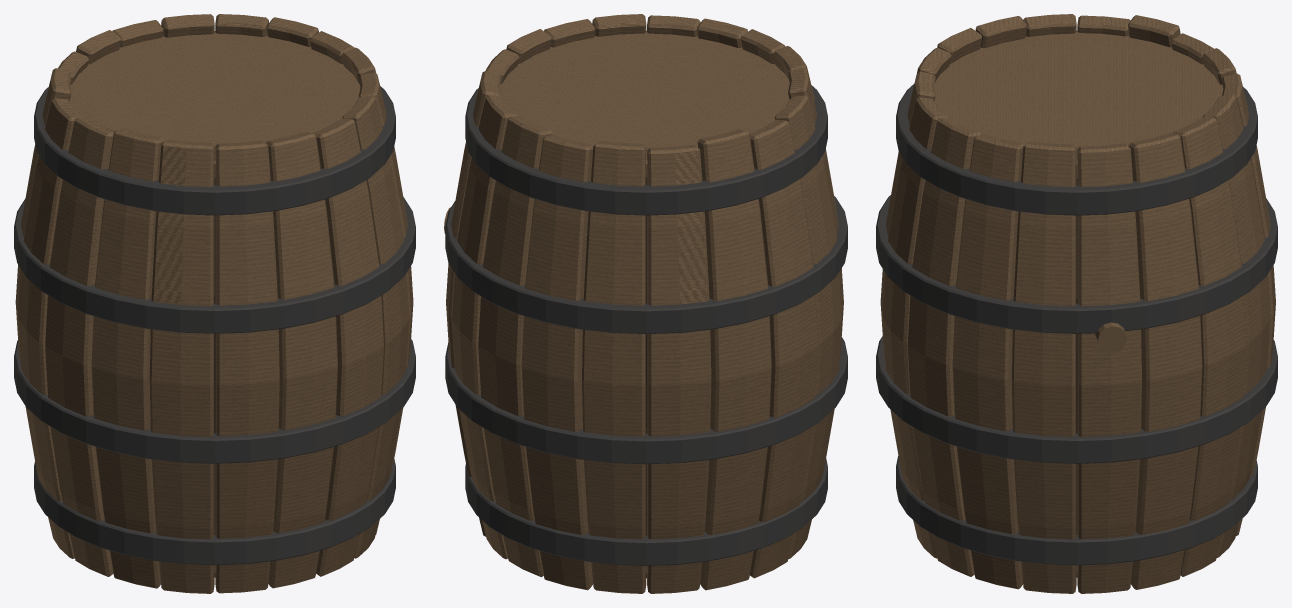
Rendered from prop-barrel.glb.
3 views of the same model, side by side, from view 1: azimuth 30°, elevation 25°; view 2: azimuth 150°, elevation 25°; view 3: azimuth 270°, elevation 25° (orthographic).
Parts seen in each view (by area): view 1: BarrelStaves, HeadTop, hoop.002, hoop.001, hoop.003, hoop, BarrelCore; view 2: BarrelStaves, HeadTop, hoop.002, hoop.001, hoop.003, hoop; view 3: BarrelStaves, HeadTop, hoop.002, hoop.001, hoop.003, hoop, Bung, BarrelCore.
Boxes of the visible parts, x1,y1,x2,y2 form: BarrelStaves: [15, 14, 413, 593]; HeadTop: [69, 31, 360, 177]; hoop.002: [14, 197, 415, 333]; hoop.001: [14, 339, 415, 463]; hoop.003: [34, 86, 395, 215]; hoop: [34, 459, 395, 565]; BarrelCore: [214, 178, 215, 577]; BarrelStaves: [446, 14, 843, 593]; HeadTop: [499, 30, 789, 178]; hoop.002: [445, 196, 847, 334]; hoop.001: [445, 337, 847, 464]; hoop.003: [465, 85, 827, 215]; hoop: [465, 458, 827, 565]; BarrelStaves: [880, 14, 1275, 593]; HeadTop: [934, 31, 1223, 178]; hoop.002: [876, 195, 1277, 333]; hoop.001: [876, 336, 1277, 463]; hoop.003: [896, 84, 1257, 215]; hoop: [896, 456, 1257, 565]; Bung: [1095, 322, 1126, 353]; BarrelCore: [1076, 179, 1077, 577].
Size of the model in its own units: 0.7446 by 0.8977 by 0.7288.
Materials: 3 (1 with a texture image).
